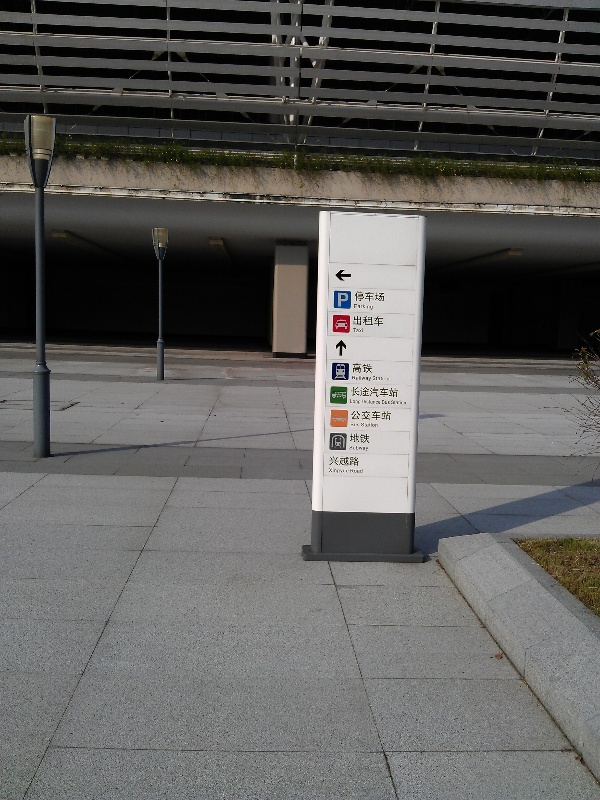text: (338, 293, 352, 308), (369, 291, 385, 303), (369, 315, 384, 327), (354, 315, 368, 327), (353, 363, 368, 374), (353, 387, 368, 398), (369, 387, 384, 398), (353, 410, 368, 421), (369, 410, 384, 421), (353, 433, 368, 444), (337, 456, 352, 467), (355, 291, 368, 303), (385, 387, 399, 398), (354, 304, 368, 311), (353, 446, 369, 452), (353, 376, 368, 382), (385, 410, 392, 421), (329, 456, 336, 467), (353, 456, 360, 467), (353, 328, 368, 333), (337, 468, 349, 474), (373, 376, 384, 382), (353, 468, 364, 474), (369, 400, 381, 405), (369, 423, 379, 428), (353, 399, 361, 405), (392, 400, 400, 406), (369, 363, 373, 374), (329, 468, 336, 474), (385, 376, 391, 382), (401, 400, 407, 406), (369, 304, 374, 311), (362, 423, 368, 428), (362, 400, 368, 405), (353, 423, 360, 427), (385, 401, 391, 405), (350, 433, 352, 444), (369, 433, 371, 444), (369, 376, 372, 382), (350, 399, 352, 405), (350, 446, 352, 452), (351, 387, 352, 398), (351, 410, 352, 421), (382, 401, 384, 405), (351, 468, 352, 474), (351, 423, 352, 427)
